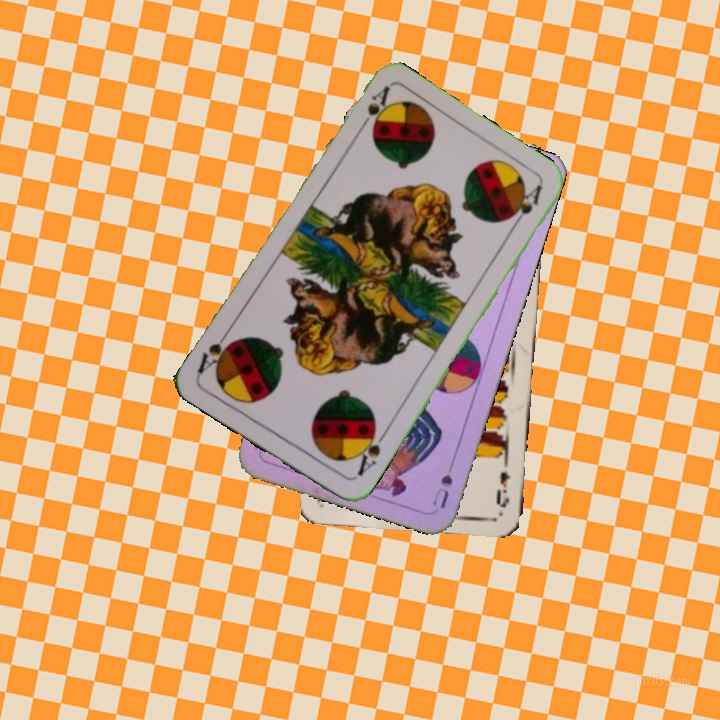E9: (492, 455, 513, 510)
SA: (350, 422, 389, 479), (354, 82, 393, 136)
SU: (428, 470, 456, 511)
